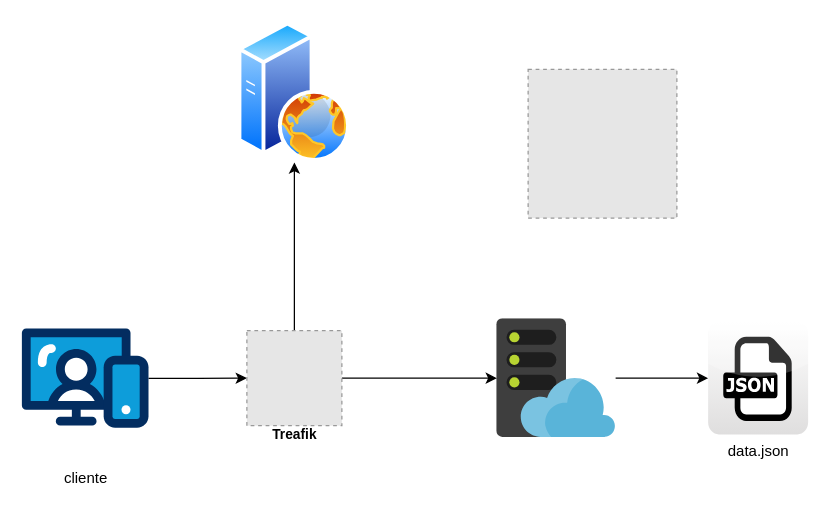
Image size: 830x508. Some labels were removed from this diagram. Grey dashed boxes stand in for pictures. The shapes that lost their labels are listed below. From the top down, each one's centre as x and y in pixels, then its label:
At point 294,91: "static files(nginx) -frontend".
At point 555,377: "Spring Boot(Netty) - backend".
